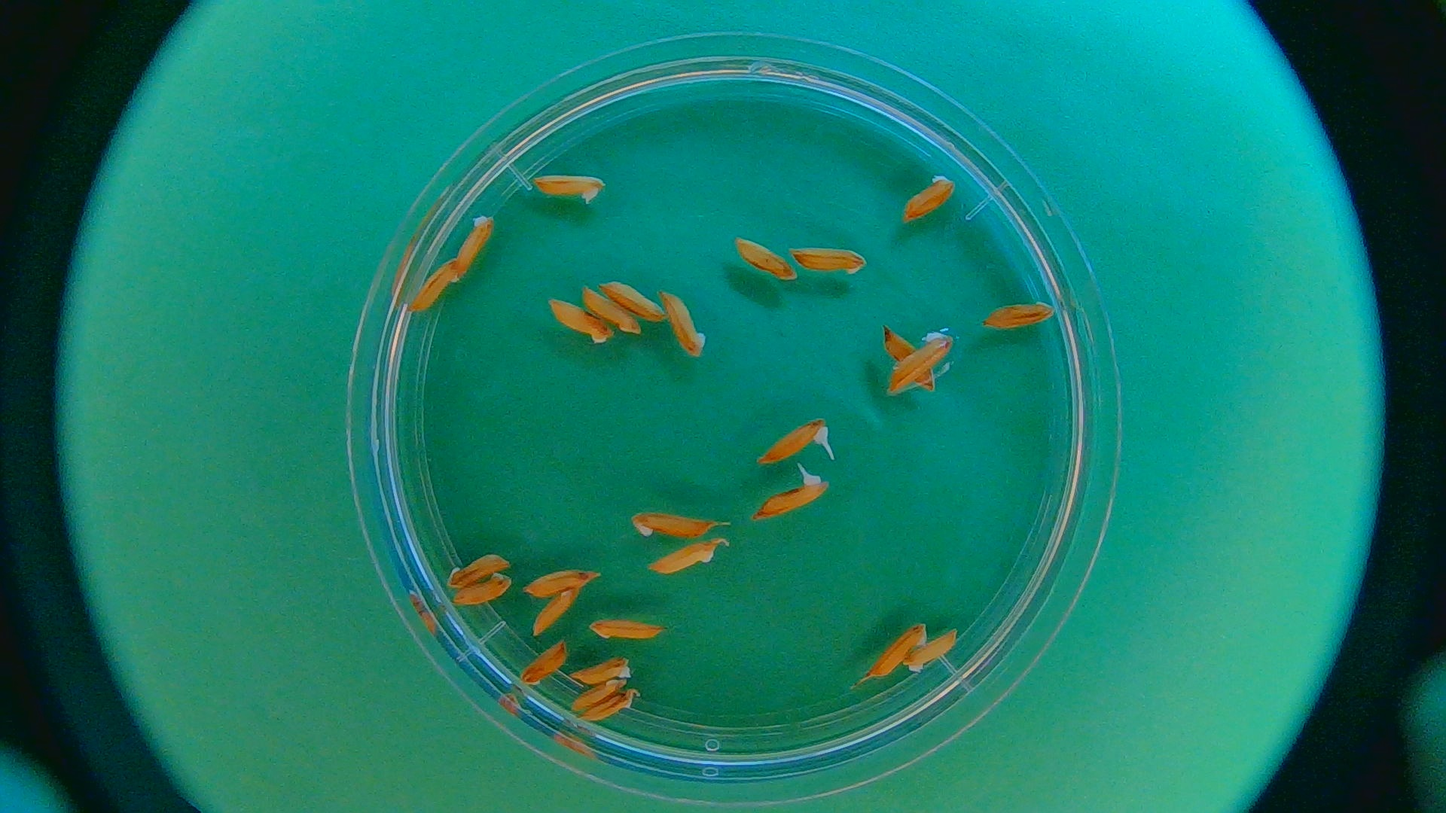no: (856, 617, 929, 678), (541, 295, 617, 349), (626, 500, 717, 544), (880, 331, 950, 388), (660, 285, 712, 358), (585, 607, 672, 650), (898, 169, 962, 226), (579, 285, 647, 337), (786, 240, 866, 284), (410, 254, 462, 321), (454, 207, 498, 285), (596, 277, 666, 324), (520, 561, 602, 601), (648, 537, 726, 579), (735, 237, 802, 285), (906, 623, 960, 680), (517, 639, 568, 695), (530, 171, 607, 208), (978, 297, 1057, 332), (532, 586, 581, 636), (444, 553, 511, 589), (446, 574, 513, 607), (563, 680, 627, 714), (581, 692, 642, 726), (565, 656, 633, 685)
yes: (753, 470, 828, 520), (755, 419, 829, 464)
